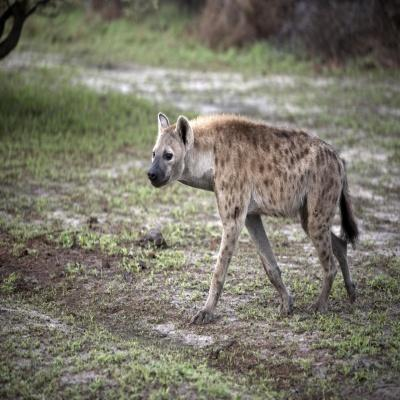hyenas: (121, 93, 394, 330)
